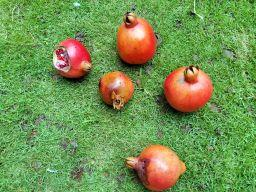pomegranate: (125, 144, 186, 192), (164, 64, 213, 112), (115, 12, 157, 65), (52, 39, 92, 82), (98, 71, 134, 110)
